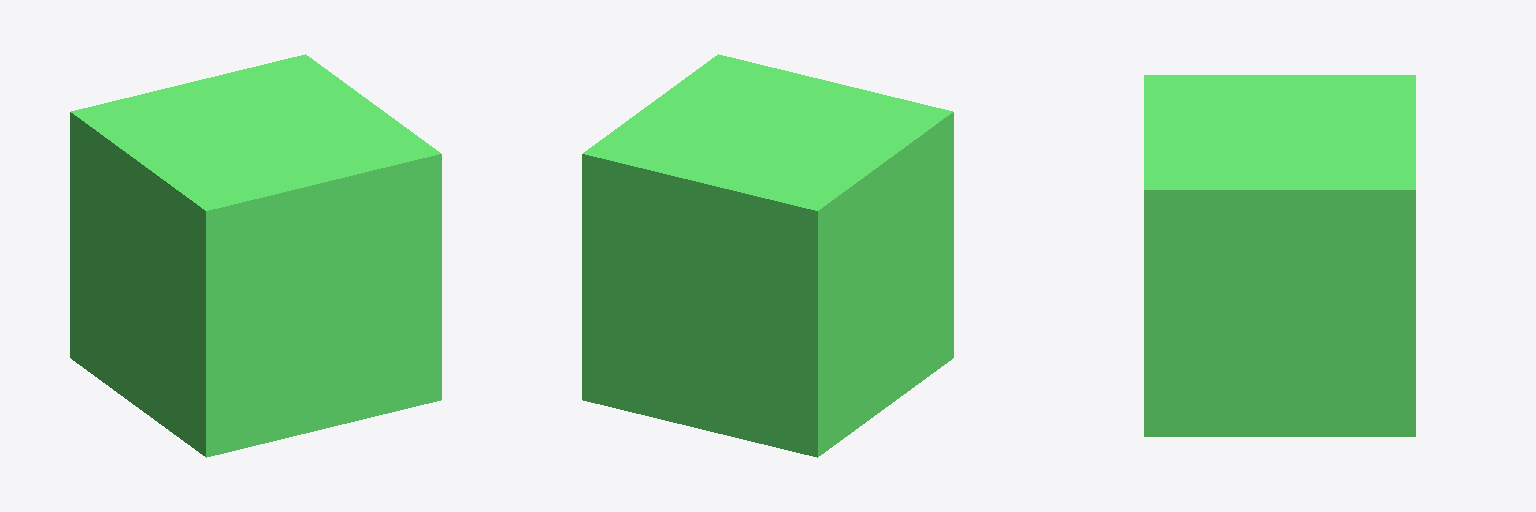
3 renders of one model, left to right at view 1: azimuth 30°, elevation 25°; view 2: azimuth 150°, elevation 25°; view 3: azimuth 270°, elevation 25°, orthographic.
Visible parts, largest first — view 1: Cube_Cube.001; view 2: Cube_Cube.001; view 3: Cube_Cube.001.
Part boxes in pixels (x1,y1,x2,y2): Cube_Cube.001: (70, 54, 441, 457); Cube_Cube.001: (582, 54, 953, 457); Cube_Cube.001: (1144, 75, 1415, 436).
Bounding box in the file's own units: 4 × 4 × 4.
Materials: 1 (1 with a texture image).